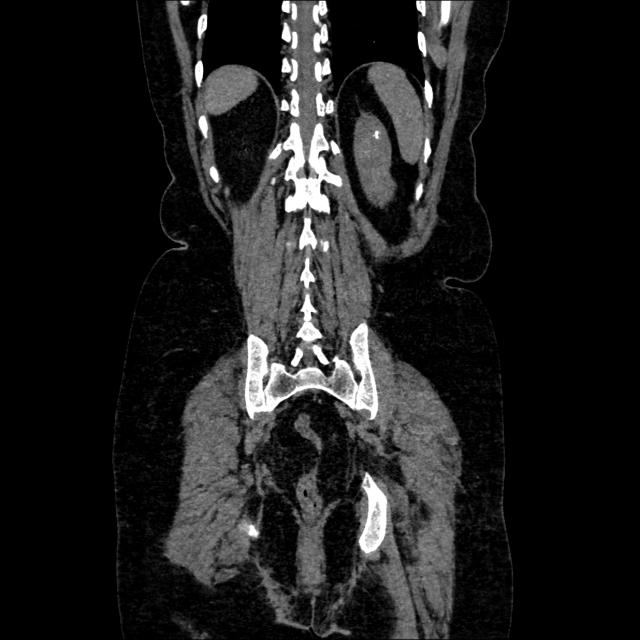kidney: (359, 119, 392, 192)
stone: (374, 132, 378, 139)
